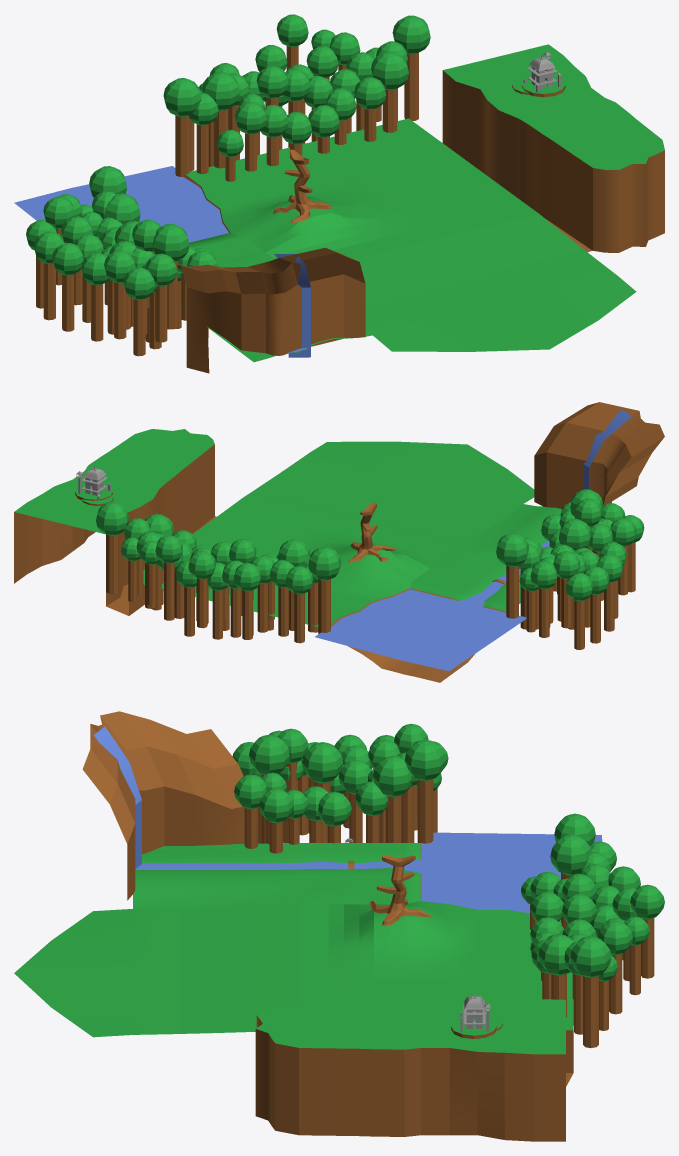
Rendered from Level 1 11-6-15.fbx.
The picture shows the model from 3 angles, top to bottom: view 1: azimuth 30°, elevation 25°; view 2: azimuth 150°, elevation 25°; view 3: azimuth 270°, elevation 25°; orthographic projection. The views are drawn at different scales.
Visible parts, largest first — view 1: pPlane10, pPlane2, pPlane4, pSphere32, pSphere16, pSphere8, pSphere24, pSphere56, pSphere59, pSphere44, pSphere58, pSphere43 (+29 smaller); view 2: pPlane10, pPlane4, pPlane2, pSphere16, pSphere32, pSphere48, pSphere26, pSphere28, pSphere27, pSphere29, pSphere45, pSphere51 (+29 smaller); view 3: pPlane10, pPlane2, pPlane4, pSphere16, pSphere48, pSphere40, Tree, pSphere26, pSphere64, pSphere18, pSphere56, pSphere8 (+21 smaller).
Boxes of the visible parts, <box> form: pPlane10: <box>180,44,664,362</box>; pPlane2: <box>170,247,365,373</box>; pPlane4: <box>14,166,307,353</box>; pSphere32: <box>163,78,201,176</box>; pSphere16: <box>392,15,430,120</box>; pSphere8: <box>371,51,408,132</box>; pSphere24: <box>202,72,239,168</box>; pSphere56: <box>152,223,189,329</box>; pSphere59: <box>123,267,155,356</box>; pSphere44: <box>52,243,83,331</box>; pSphere58: <box>145,253,176,342</box>; pSphere43: <box>104,250,135,339</box>; pPlane10: <box>14,429,561,682</box>; pPlane4: <box>315,541,549,671</box>; pPlane2: <box>534,402,664,508</box>; pSphere16: <box>96,502,128,593</box>; pSphere32: <box>308,546,340,633</box>; pSphere48: <box>496,533,528,618</box>; pSphere26: <box>155,535,182,612</box>; pSphere28: <box>233,563,261,639</box>; pSphere27: <box>188,551,215,628</box>; pSphere29: <box>285,566,313,643</box>; pSphere45: <box>565,573,593,649</box>; pSphere51: <box>530,560,557,637</box>; pPlane10: <box>14,843,573,1141</box>; pPlane2: <box>82,711,244,900</box>; pPlane4: <box>135,832,602,913</box>; pSphere16: <box>570,936,611,1047</box>; pSphere48: <box>404,739,446,843</box>; pSphere40: <box>373,755,411,842</box>; Tree: <box>369,855,431,925</box>; pSphere26: <box>630,884,664,978</box>; pSphere64: <box>302,742,343,842</box>; pSphere18: <box>598,920,632,1014</box>; pSphere56: <box>249,734,289,843</box>; pSphere8: <box>538,934,573,1017</box>.
Size of the model in its own units: 499 by 130 by 445.
